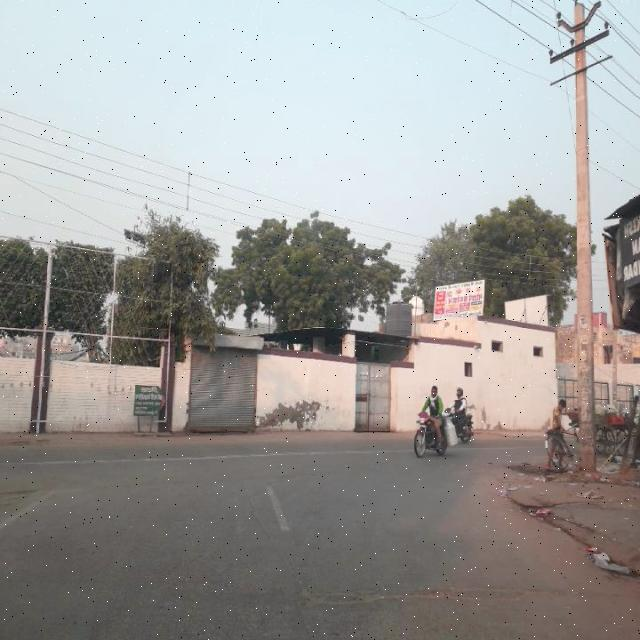D11: (276, 577, 596, 620)
